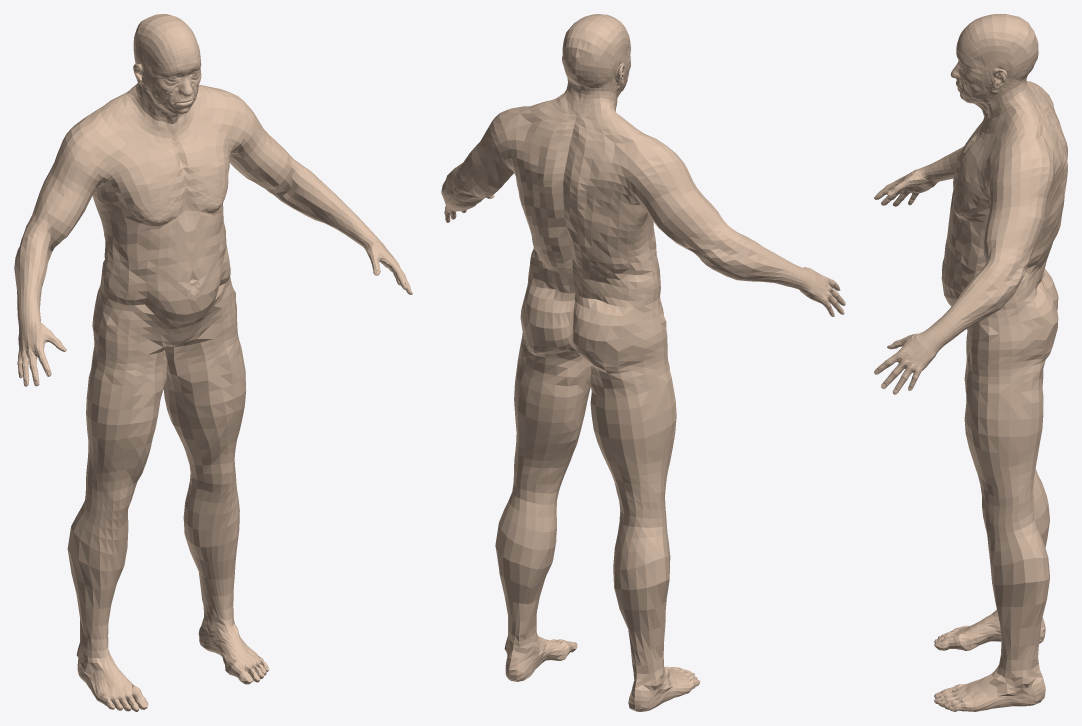
Rendered from male-elder-max-high.glb.
The picture shows the model from 3 angles, left to right: view 1: azimuth 30°, elevation 25°; view 2: azimuth 150°, elevation 25°; view 3: azimuth 270°, elevation 25°; orthographic projection.
Visible parts, largest first — view 1: world; view 2: world; view 3: world.
Boxes of the visible parts, x1,y1,x2,y2 form: world: [14, 14, 412, 711]; world: [441, 14, 845, 711]; world: [874, 14, 1067, 711].
Bounding box in the file's own units: 1.25 × 2.03 × 0.5424.
